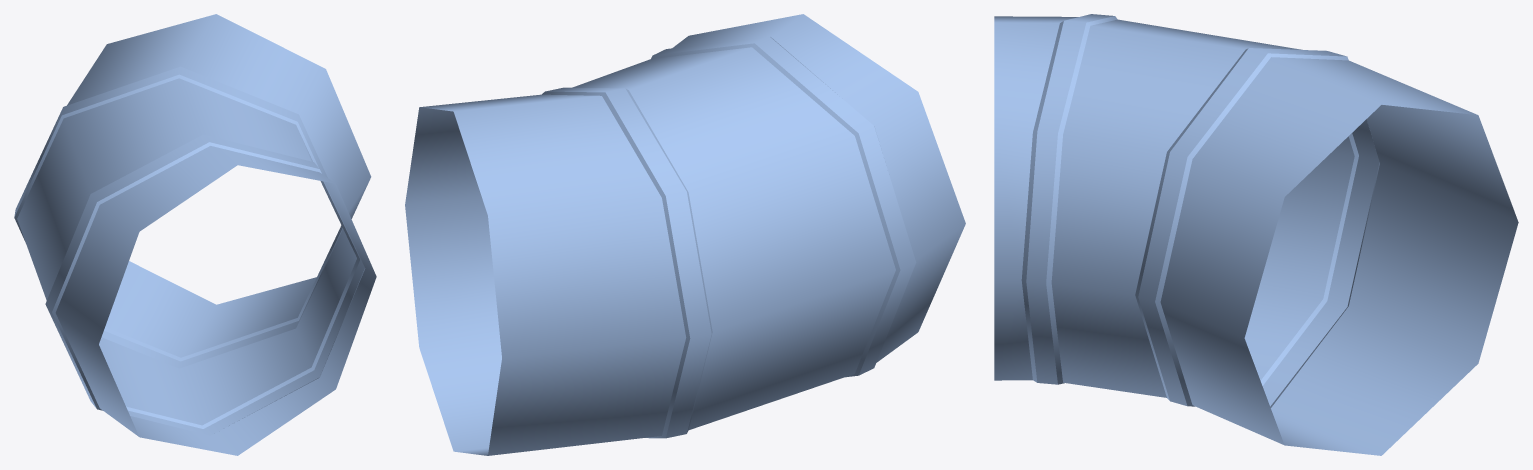
Rendered from PipeSmall_Stepped_BentDeg45_02.fbx.
The picture shows the model from 3 angles, left to right: view 1: azimuth 30°, elevation 25°; view 2: azimuth 150°, elevation 25°; view 3: azimuth 270°, elevation 25°; orthographic projection. The views are drawn at different scales.
Parts seen in each view (by area): view 1: PipeSmall_Stepped_BentDeg45_02.001; view 2: PipeSmall_Stepped_BentDeg45_02.001; view 3: PipeSmall_Stepped_BentDeg45_02.001.
Part boxes in pixels (bbox=[...]): PipeSmall_Stepped_BentDeg45_02.001: bbox=[14, 14, 376, 455]; PipeSmall_Stepped_BentDeg45_02.001: bbox=[405, 14, 965, 455]; PipeSmall_Stepped_BentDeg45_02.001: bbox=[994, 14, 1518, 455].
Bounding box in the file's own units: 0.1362 × 0.1014 × 0.1353.
